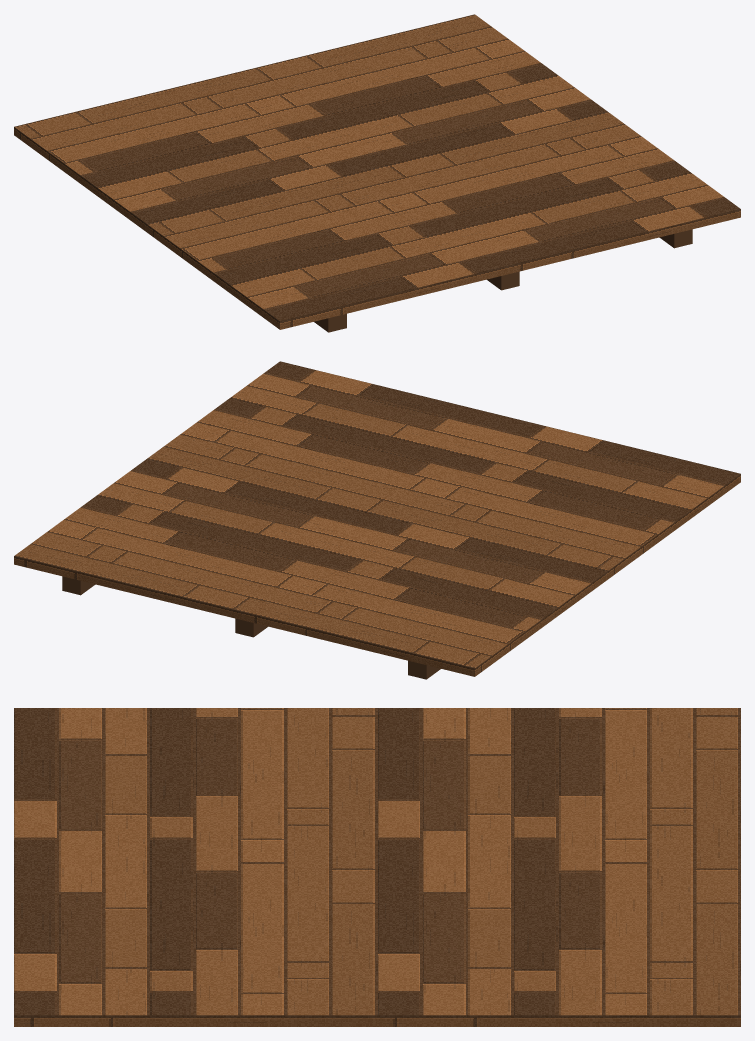
The model's file is mine_floor_planks.glb.
3 renders of one model, top to bottom at view 1: azimuth 30°, elevation 25°; view 2: azimuth 150°, elevation 25°; view 3: azimuth 270°, elevation 25°, orthographic. The views are drawn at different scales.
Visible parts, largest first — view 1: mine_floor_planks; view 2: mine_floor_planks; view 3: mine_floor_planks.
Part boxes in pixels (bbox=[...]): mine_floor_planks: bbox=[14, 14, 740, 332]; mine_floor_planks: bbox=[14, 361, 740, 679]; mine_floor_planks: bbox=[14, 708, 740, 1026].
Size of the model in its own units: 4 by 0.19 by 4.
2 materials, 1 textured.
